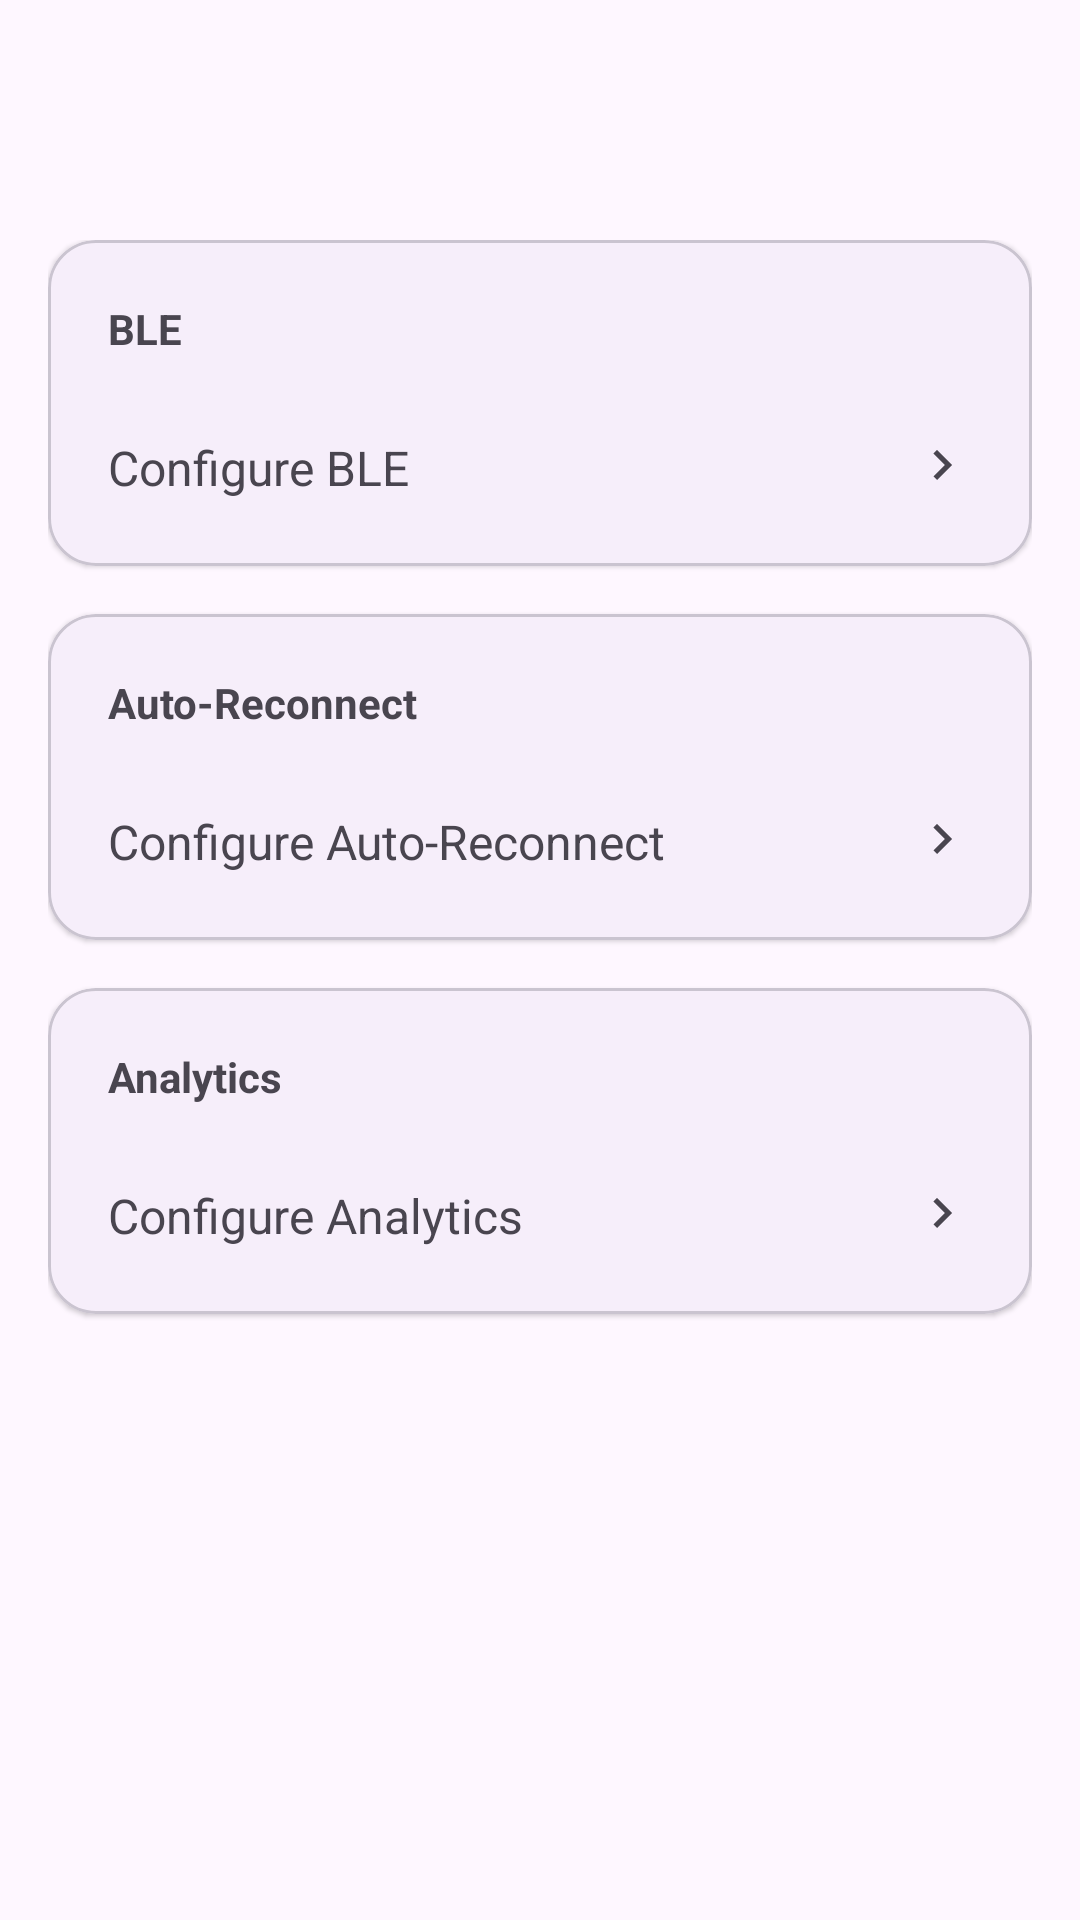

Named icons in this screenshot (1080*1920) and their centers, (x,y):
chevron right: (942,465), (942,839), (942,1213)
